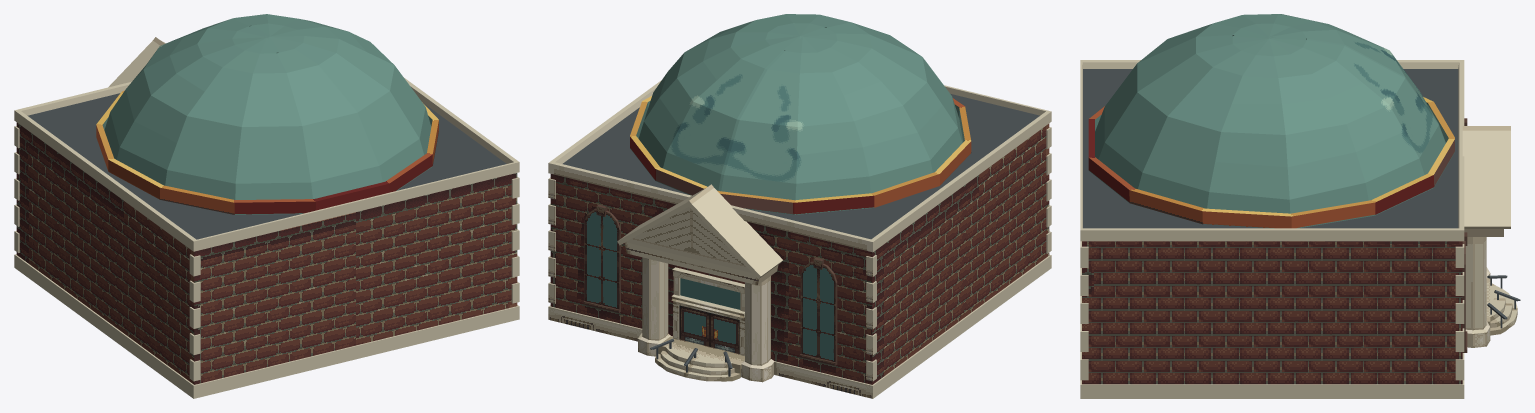
File: labratory.gltf
3 views of the same model, side by side, from view 1: azimuth 30°, elevation 25°; view 2: azimuth 150°, elevation 25°; view 3: azimuth 270°, elevation 25° (orthographic). The views are drawn at different scales.
Visible parts, largest first — view 1: bace, dome, cubeframing keys (×2), cube; view 2: bace, dome, cube (×3), circle (×2), pillars, window mid, STAIRS, doors (×2), cubeframing keys (×2); view 3: bace, dome, cube, pillars, cubeframing keys (×4), STAIRS.
Boxes of the visible parts, x1,y1,x2,y2 form: bace: [14, 78, 519, 398]; dome: [96, 14, 438, 214]; cubeframing keys (×2): [189, 177, 519, 354]; cube: [108, 40, 159, 87]; bace: [548, 80, 1051, 398]; dome: [630, 14, 971, 214]; cube (×3): [617, 188, 782, 285]; circle (×2): [583, 204, 837, 365]; pillars: [638, 257, 774, 382]; window mid: [671, 267, 744, 355]; STAIRS: [655, 336, 744, 381]; doors (×2): [679, 305, 739, 353]; cubeframing keys (×2): [548, 177, 876, 355]; bace: [1080, 60, 1464, 398]; dome: [1088, 14, 1454, 228]; cube: [1462, 130, 1510, 228]; pillars: [1465, 237, 1490, 347]; cubeframing keys (×4): [1080, 244, 1464, 351]; STAIRS: [1486, 278, 1517, 335].
Bounding box in the file's own units: 14.62 × 11.05 × 15.98.
7 materials, 7 textured.
